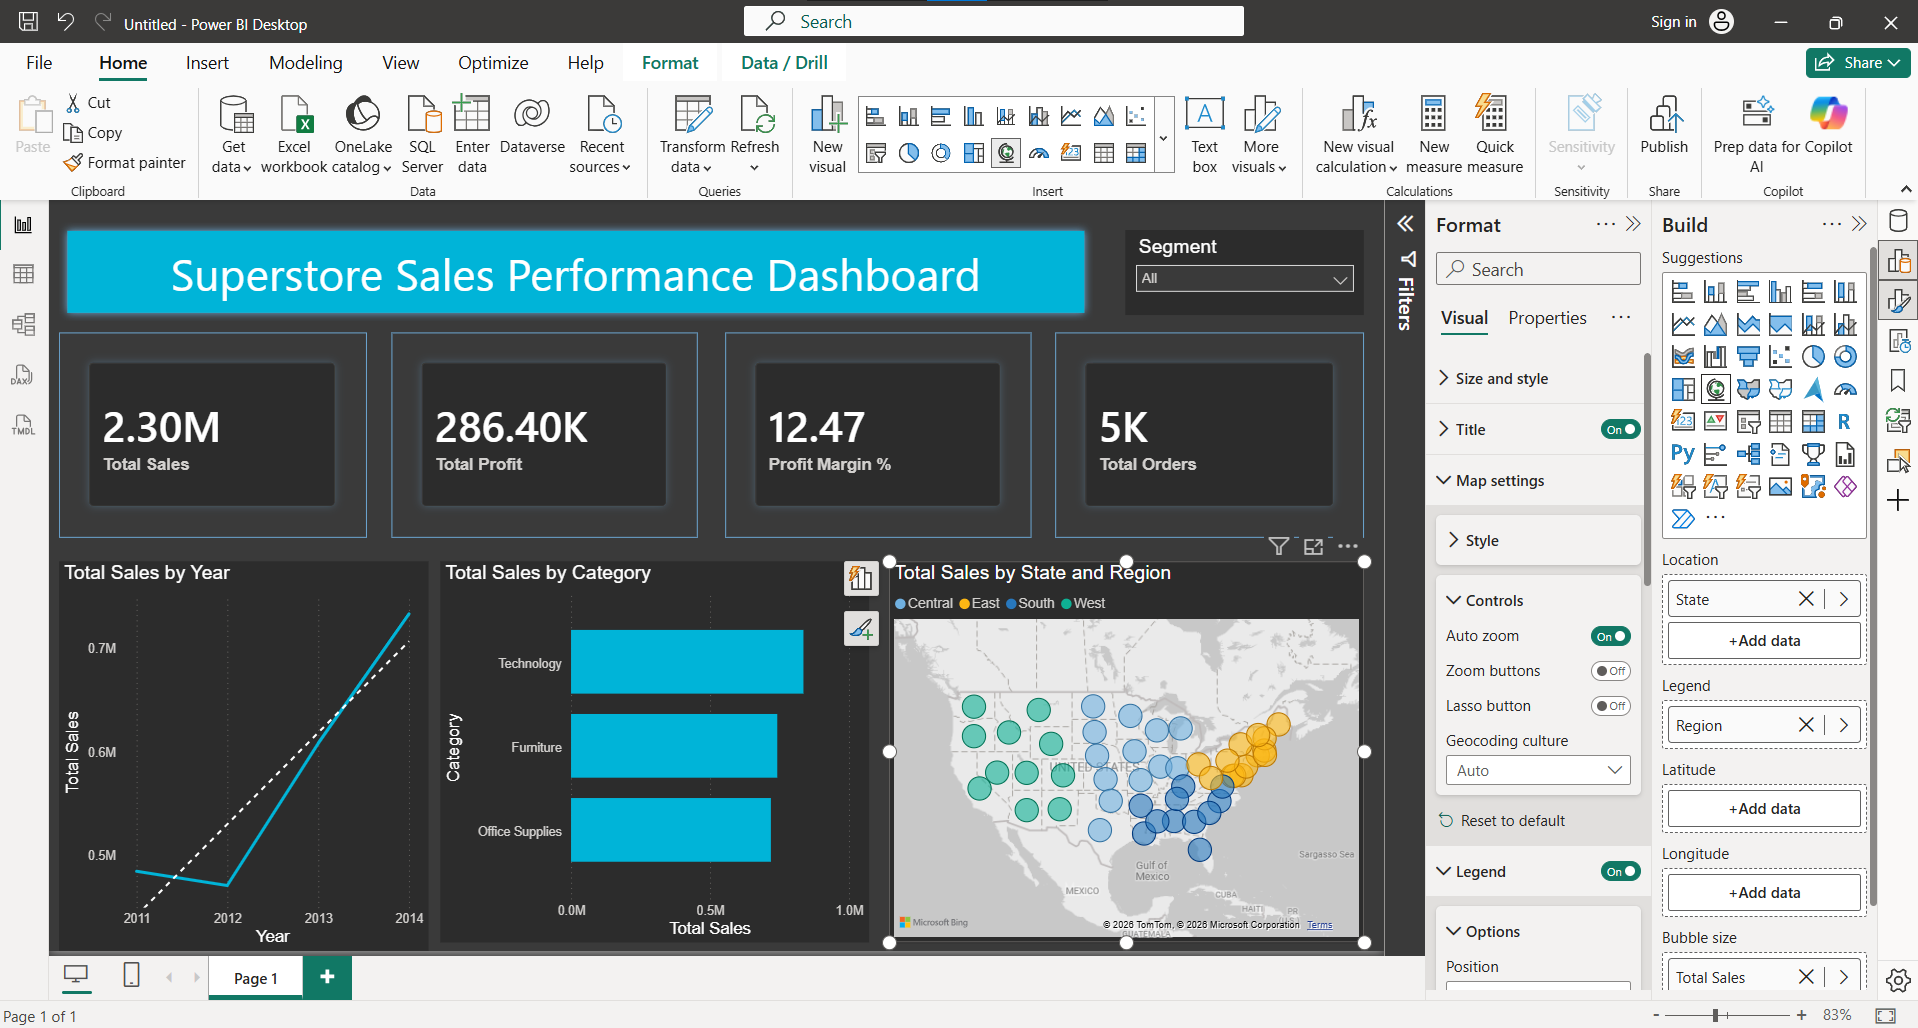

What the dashboard file says about the page in this screenshot:
{"tool":"powerbi","page":{"name":"Page 1","canvas":[1280,720],"ordinal":0},"visuals":[{"type":"cardVisual","fields":{"Data":["Orders1.Total Sales"]},"box":[9.6,127,294.8,196.6],"z":0},{"type":"cardVisual","fields":{"Data":["Orders1.Total Profit"]},"box":[328.4,127,293.6,196.6],"z":1000},{"type":"cardVisual","fields":{"Data":["Orders1.Profit Margin %"]},"box":[648.4,127,293.6,196.6],"z":2000},{"type":"cardVisual","fields":{"Data":["Orders1.Total Orders"]},"box":[964.8,127,296,196.6],"z":3000},{"type":"clusteredBarChart","fields":{"Category":["Products1.Category"],"Y":["Orders1.Total Sales"]},"box":[375.1,346.4,411.1,365.5],"z":4000},{"type":"map","fields":{"Category":["Customers1.State"],"Size":["Orders1.Total Sales"],"Series":["Customers1.Region"]},"box":[805.4,346.4,455.4,365.5],"z":5000},{"type":"lineChart","fields":{"Category":["Orders1.Order Date.Variation.Date Hierarchy.Year","Orders1.Order Date.Variation.Date Hierarchy.Quarter","Orders1.Order Date.Variation.Date Hierarchy.Month","Orders1.Order Date.Variation.Date Hierarchy.Day"],"Y":["Orders1.Total Sales"]},"box":[9.6,346.4,354.8,373.9],"z":6000},{"type":"slicer","fields":{"Values":["Customers1.Segment"]},"box":[1031.9,28.8,228.9,81.5],"z":7000},{"type":"shape","box":[9.6,21.6,991.2,94.7],"z":7001}]}

Visuals, with their boxes on the page's 1280x720 design canvas (x1, y1, x2, y2). These are canvas units, not pixel positions in the 1918x1028 screenshot, which may show the page scaled, cropped or inside an application window:
cardVisual - Orders1.Total Sales: bbox(10, 127, 304, 324)
cardVisual - Orders1.Total Profit: bbox(328, 127, 622, 324)
cardVisual - Orders1.Profit Margin %: bbox(648, 127, 942, 324)
cardVisual - Orders1.Total Orders: bbox(965, 127, 1261, 324)
clusteredBarChart - Products1.Category x Orders1.Total Sales: bbox(375, 346, 786, 712)
map - Customers1.State x Orders1.Total Sales: bbox(805, 346, 1261, 712)
lineChart - Orders1.Order Date.Variation.Date Hierarchy.Year x Orders1.Order Date.Variation.Date Hierarchy.Quarter: bbox(10, 346, 364, 720)
slicer - Customers1.Segment: bbox(1032, 29, 1261, 110)
shape: bbox(10, 22, 1001, 116)
